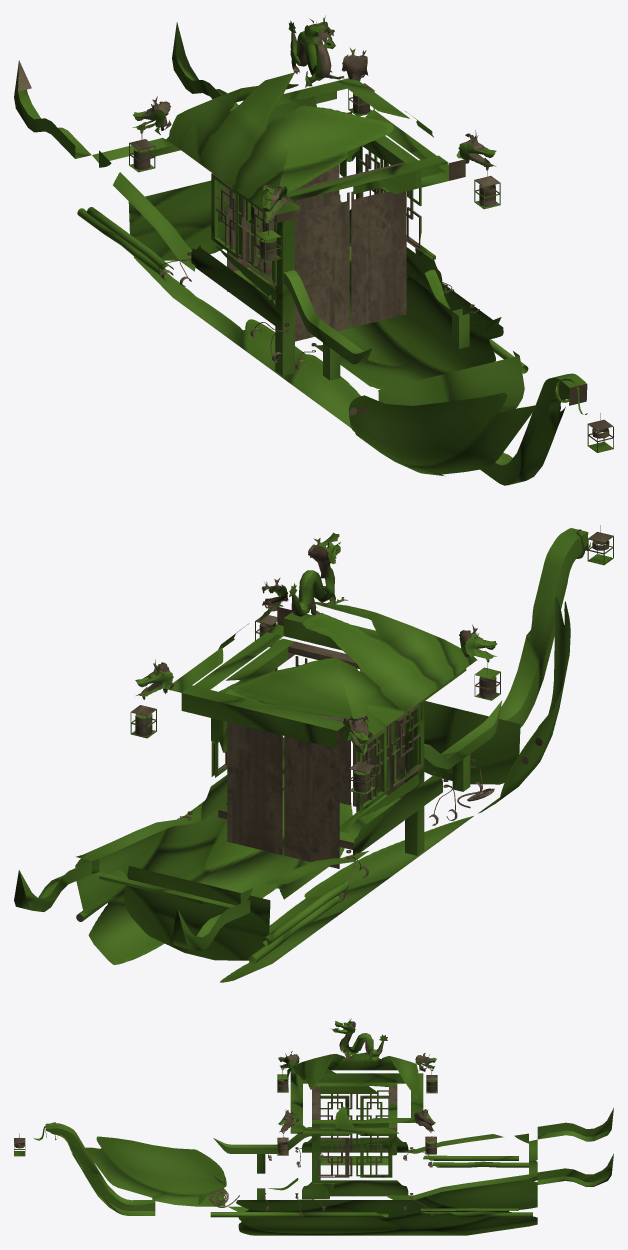
The model's file is OrientalBoat.fbx.
The picture shows the model from 3 angles, top to bottom: view 1: azimuth 30°, elevation 25°; view 2: azimuth 150°, elevation 25°; view 3: azimuth 270°, elevation 25°; orthographic projection. The views are drawn at different scales.
Parts seen in each view (by area): view 1: Ship_Boat_0; view 2: Ship_Boat_0; view 3: Ship_Boat_0.
Boxes of the visible parts, bbox=[...] form: Ship_Boat_0: bbox=[14, 15, 613, 485]; Ship_Boat_0: bbox=[14, 525, 613, 982]; Ship_Boat_0: bbox=[14, 1018, 613, 1235].
Size of the model in its own units: 454 by 639 by 1686.
